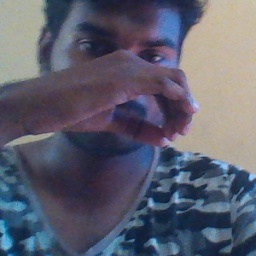O: (51, 47, 200, 153)
